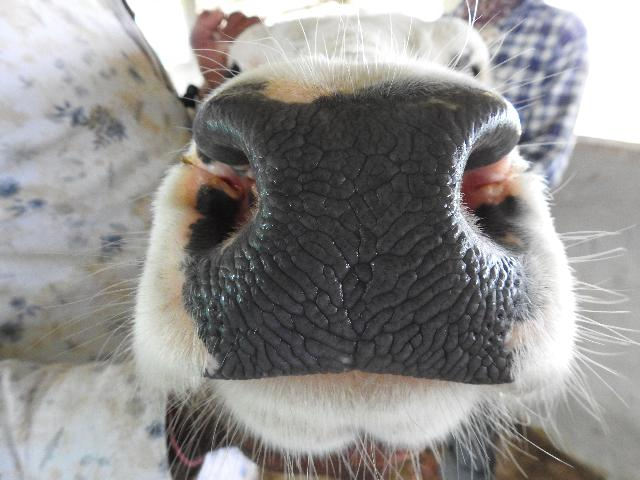Muzzle: (230, 112, 492, 372)
